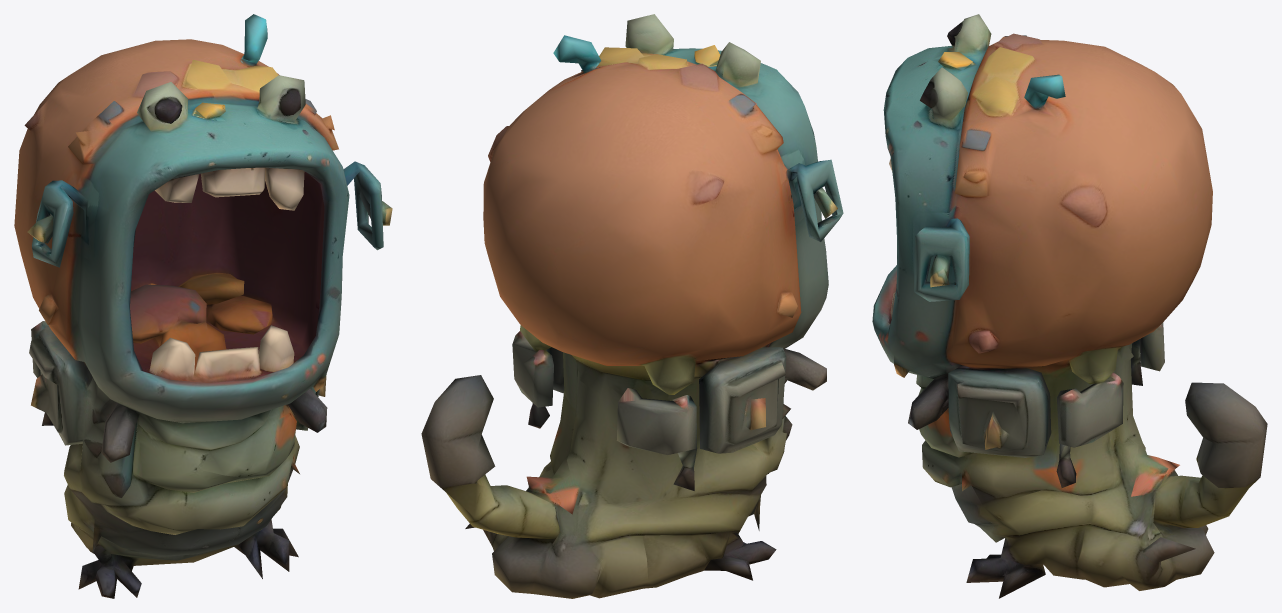
Rendered from utility_lootworm_3000.glb.
3 views of the same model, side by side, from view 1: azimuth 30°, elevation 25°; view 2: azimuth 150°, elevation 25°; view 3: azimuth 270°, elevation 25° (orthographic). The views are drawn at different scales.
Visible parts, largest first — view 1: tripo_node_8e79000f-1f49-4212-82a3-0dba34f82fb9; view 2: tripo_node_8e79000f-1f49-4212-82a3-0dba34f82fb9; view 3: tripo_node_8e79000f-1f49-4212-82a3-0dba34f82fb9.
Part boxes in pixels (x1,y1,x2,y2): tripo_node_8e79000f-1f49-4212-82a3-0dba34f82fb9: [14, 14, 392, 598]; tripo_node_8e79000f-1f49-4212-82a3-0dba34f82fb9: [421, 14, 843, 598]; tripo_node_8e79000f-1f49-4212-82a3-0dba34f82fb9: [872, 14, 1267, 598].
Size of the model in its own units: 0.6475 by 0.9819 by 0.6815.
Materials: 1 (1 with a texture image).
